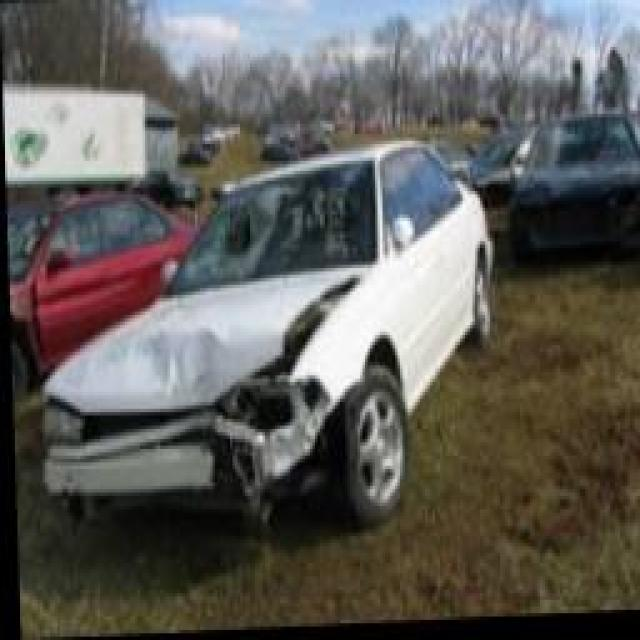Bonnet: (45, 269, 369, 415)
Bumper: (40, 384, 335, 510)
Light: (219, 379, 287, 433)
Windshield: (173, 161, 372, 291)
